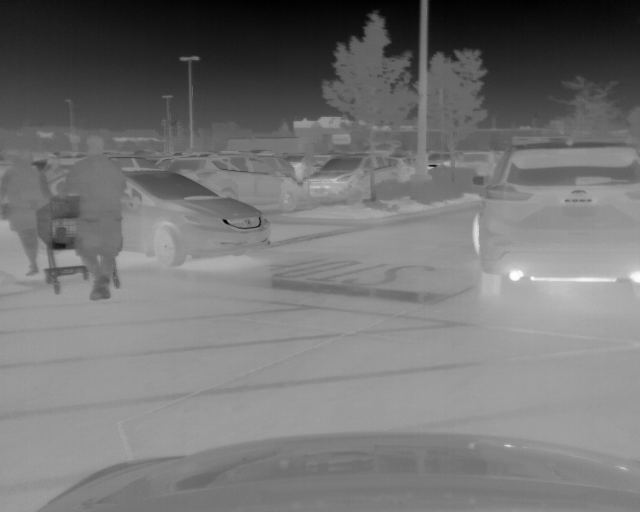car: (472, 139, 640, 300), (49, 169, 274, 264), (167, 156, 302, 214), (302, 151, 407, 204), (460, 147, 497, 187), (427, 151, 456, 171)
people: (63, 137, 126, 302), (3, 148, 51, 274)
